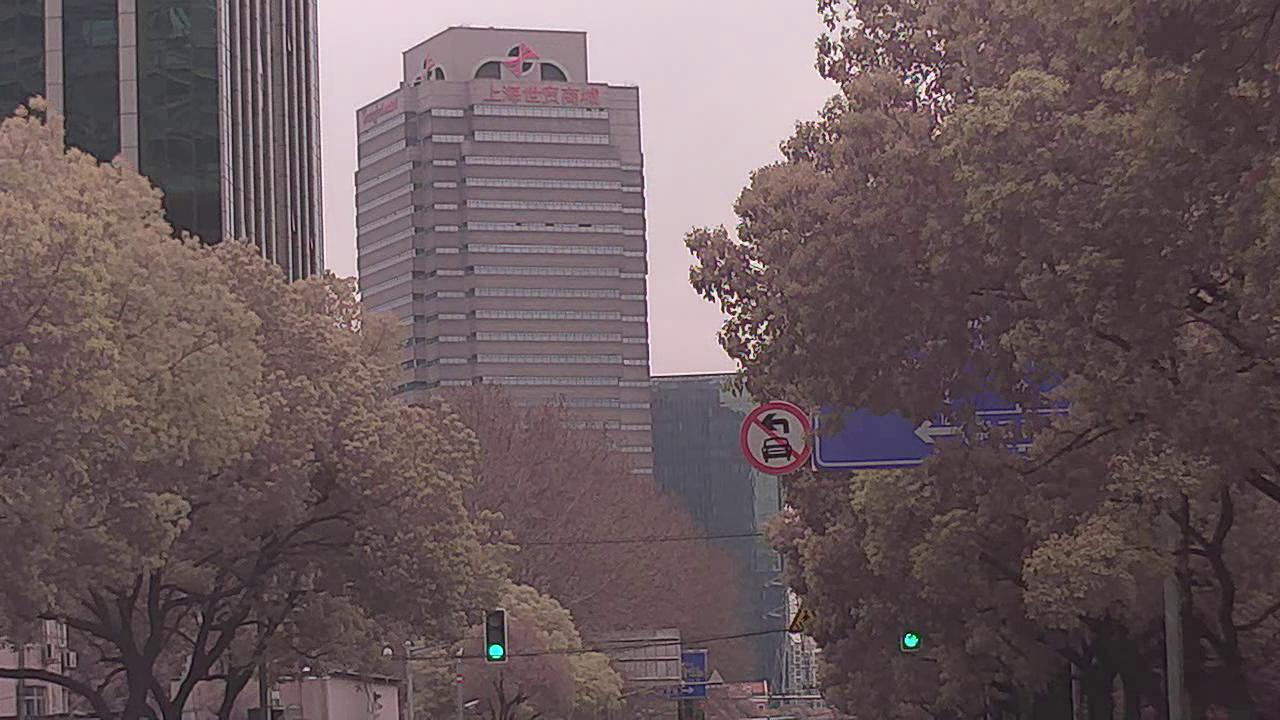traffic_light: (483, 611, 505, 664)
